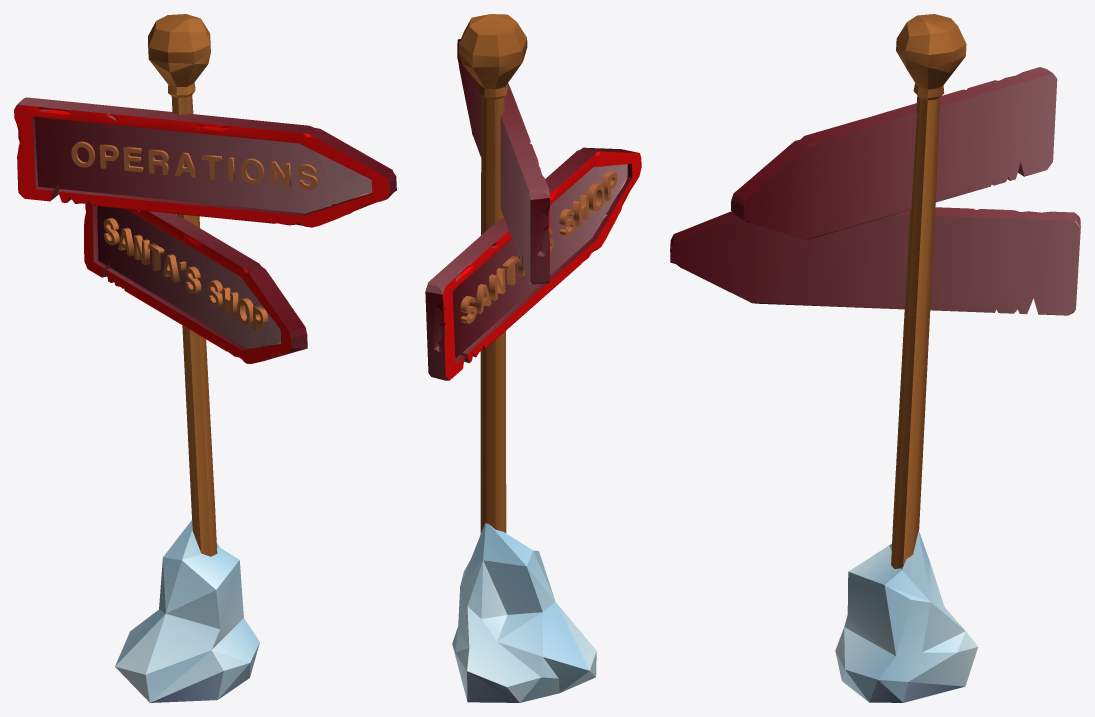
The model's file is Sign-Operations_and_santasshop.glb.
3 renders of one model, left to right at view 1: azimuth 30°, elevation 25°; view 2: azimuth 150°, elevation 25°; view 3: azimuth 270°, elevation 25°, orthographic. The views are drawn at different scales.
Parts seen in each view (by area): view 1: Cube.314-col, Cube.315-col, Cube.306-col, Cube.313-col, Text.001, Text; view 2: Cube.306-col, Cube.315-col, Cube.313-col, Cube.314-col, Text.001; view 3: Cube.315-col, Cube.314-col, Cube.313-col, Cube.306-col.
Boxes of the visible parts, x1,y1,x2,y2 form: Cube.314-col: (14,97,396,227); Cube.315-col: (84,202,307,363); Cube.306-col: (115,520,259,702); Cube.313-col: (148,14,217,556); Text.001: (103,218,268,331); Text: (71,141,317,189); Cube.306-col: (452,523,596,702); Cube.315-col: (425,147,641,380); Cube.313-col: (459,14,527,533); Cube.314-col: (457,39,550,284); Text.001: (460,171,617,323); Cube.315-col: (670,207,1080,315); Cube.314-col: (731,67,1057,240); Cube.313-col: (891,14,966,568); Cube.306-col: (835,531,977,702).
Size of the model in its own units: 0.9774 by 2.57 by 1.44.
Materials: 2 (1 with a texture image).
